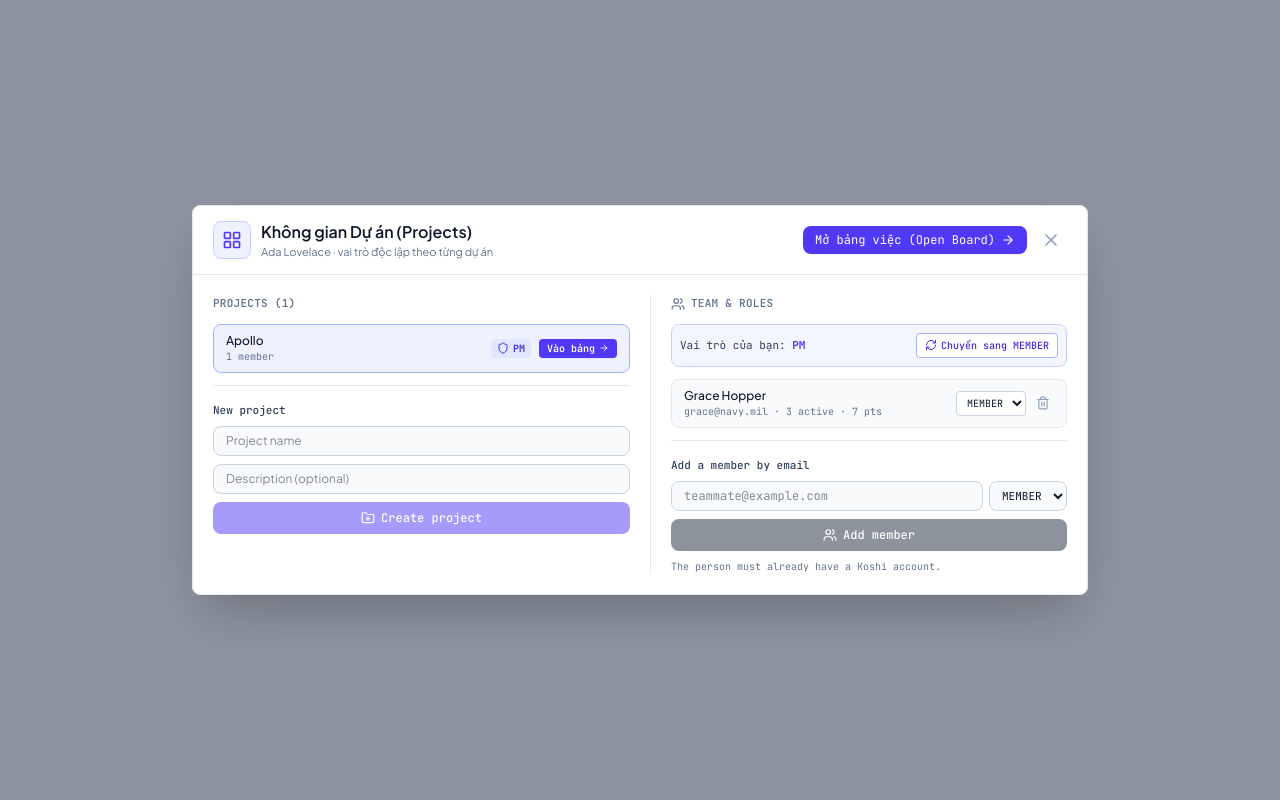
Test: failure handling › surfaces a rejected role change rather than appearing to succeed
The image size is (1280, 800).
Select "PM" in the dropdown in the row of "Grace Hopper" at (991, 403), box [956,391,1026,416]
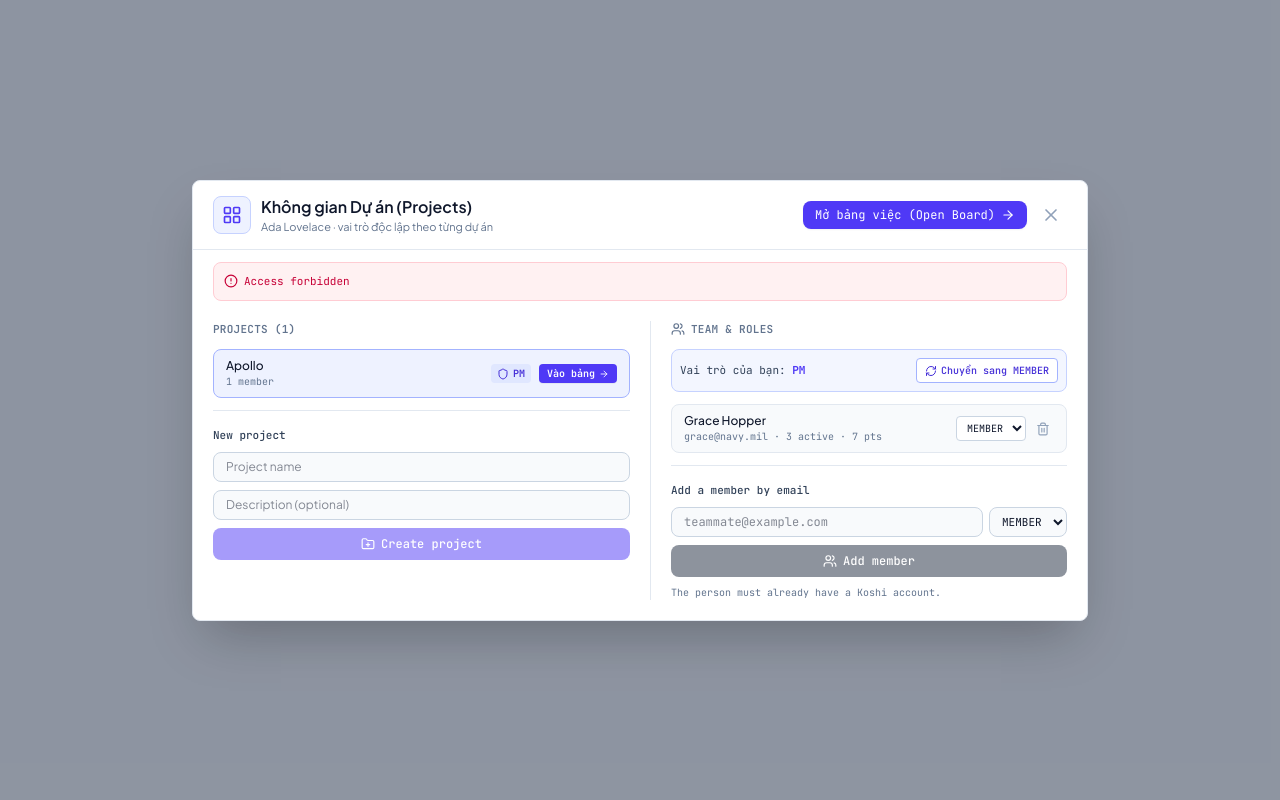
Expected: the text "Access forbidden" is shown, [244,273,350,290]
